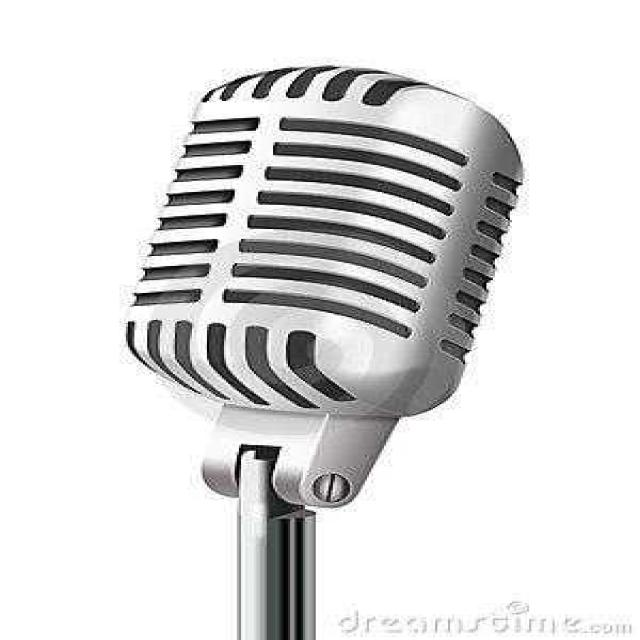microphone: (89, 56, 562, 537)
